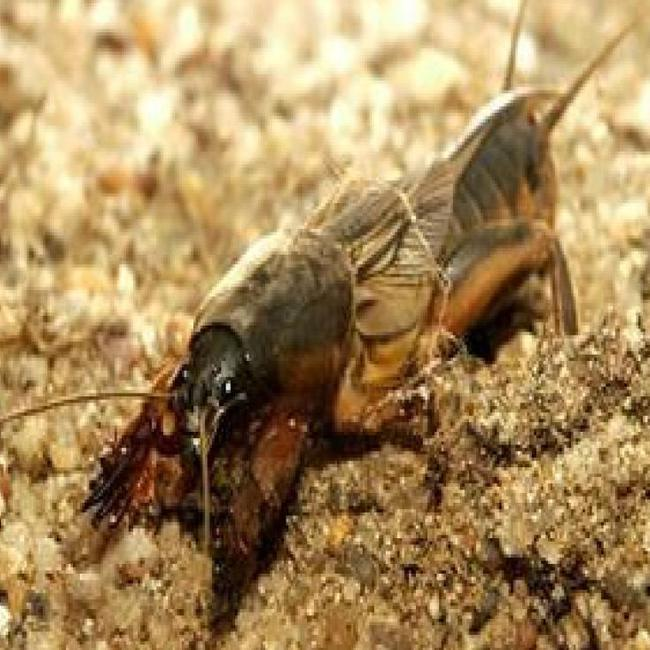pest: (119, 83, 554, 539)
